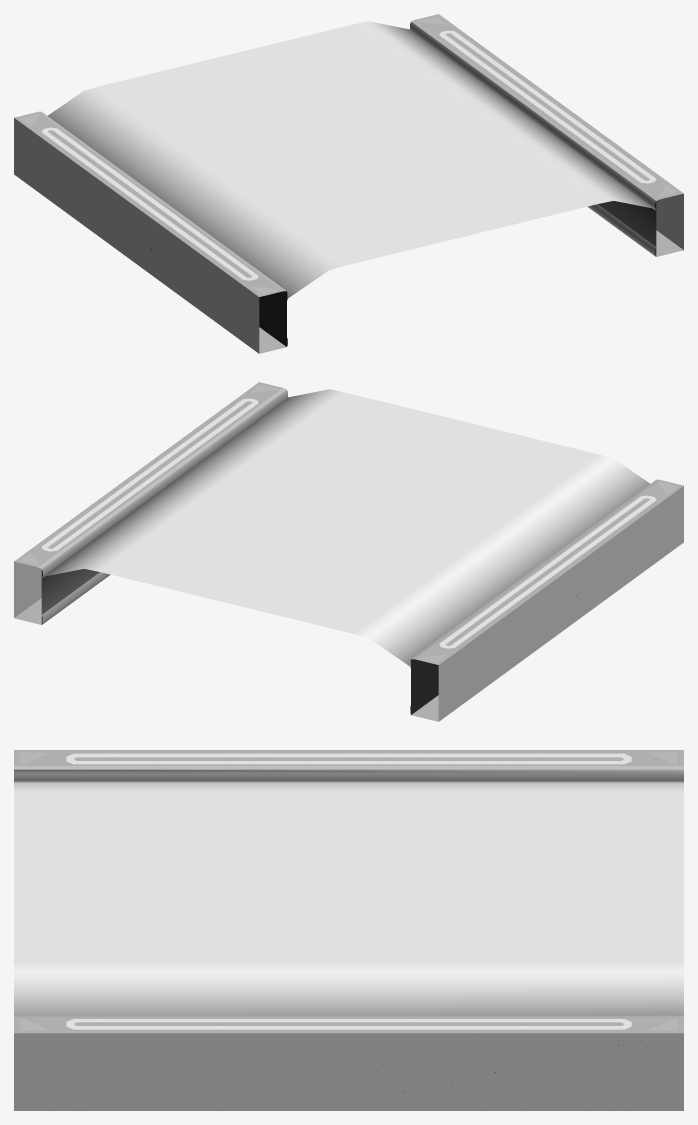
File: SM_Modular_Ceiling_Window3_Merged.fbx
3 views of the same model, one above another, from view 1: azimuth 30°, elevation 25°; view 2: azimuth 150°, elevation 25°; view 3: azimuth 270°, elevation 25° (orthographic). The views are drawn at different scales.
Visible parts, largest first — view 1: SM_Modular_Ceiling_Window3_Merged_LOD0; view 2: SM_Modular_Ceiling_Window3_Merged_LOD0; view 3: SM_Modular_Ceiling_Window3_Merged_LOD0.
Boxes of the visible parts, x1,y1,x2,y2 form: SM_Modular_Ceiling_Window3_Merged_LOD0: (14,14,683,353); SM_Modular_Ceiling_Window3_Merged_LOD0: (14,382,683,721); SM_Modular_Ceiling_Window3_Merged_LOD0: (14,750,683,1110).
Bounding box in the file's own units: 500 × 500 × 75.83.
